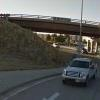Bridge: (13, 7, 94, 42)
